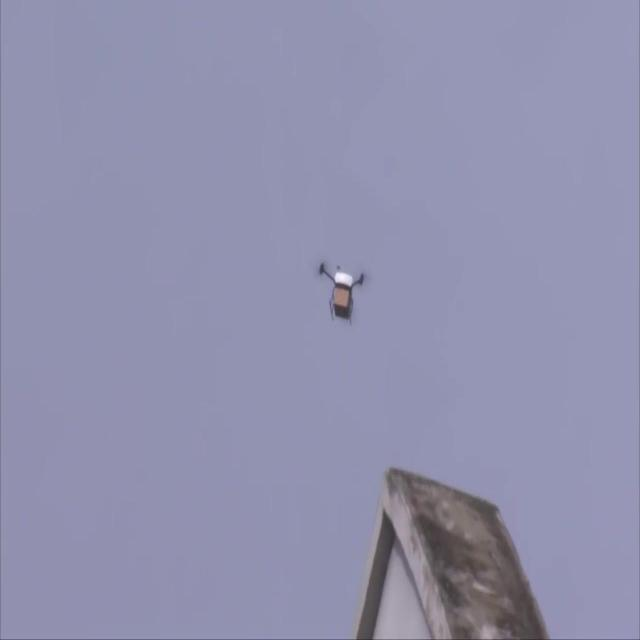drone: (316, 260, 366, 328)
